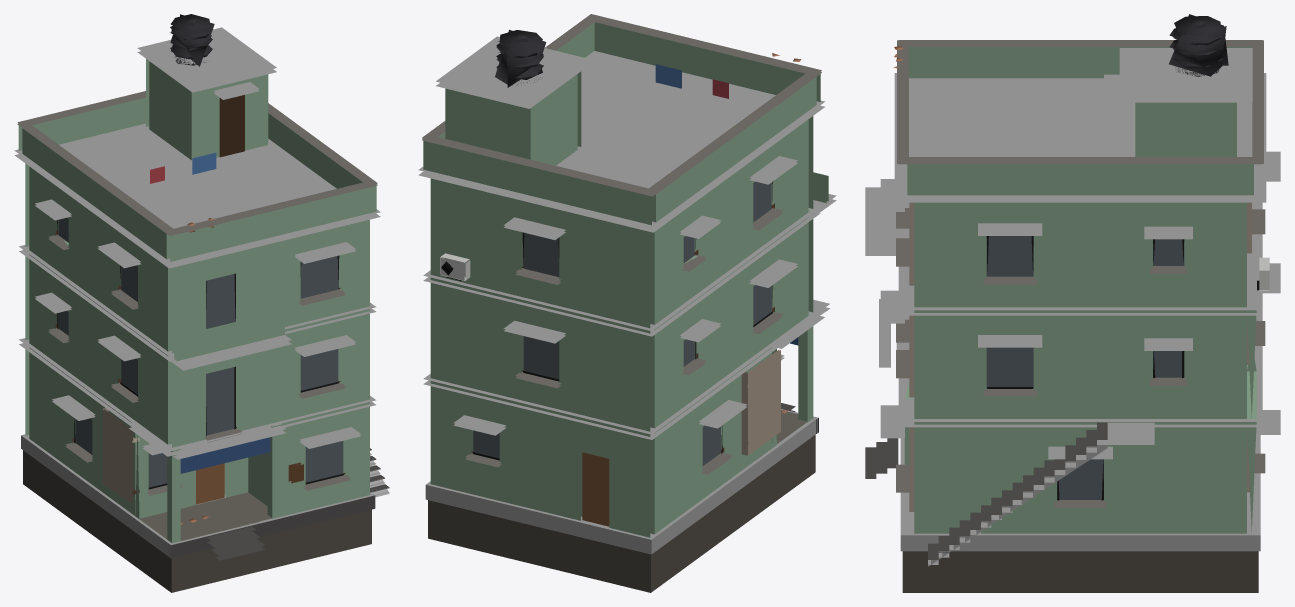
Rendered from tn_house_7x9_3_far.glb.
3 views of the same model, side by side, from view 1: azimuth 30°, elevation 25°; view 2: azimuth 150°, elevation 25°; view 3: azimuth 270°, elevation 25° (orthographic). The views are drawn at different scales.
Visible parts, largest first — view 1: tn_house_7x9_3; view 2: tn_house_7x9_3; view 3: tn_house_7x9_3.
Boxes of the visible parts, box(x1,y1,x2,y2) form: tn_house_7x9_3: box(14, 14, 389, 592); tn_house_7x9_3: box(418, 14, 836, 592); tn_house_7x9_3: box(865, 14, 1280, 592).
Size of the model in its own units: 8.66 by 15.15 by 10.61.
